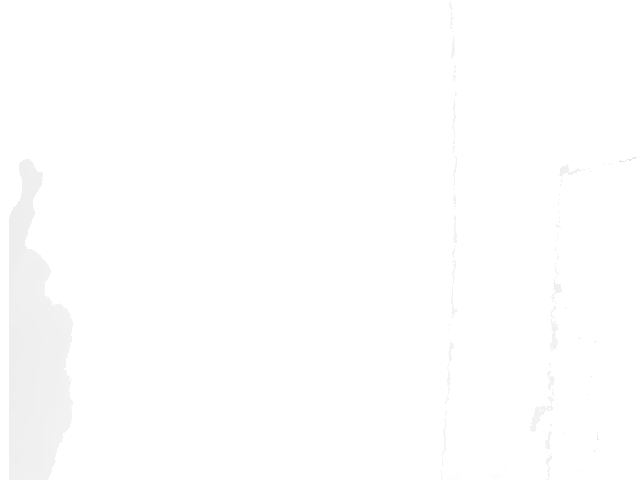hand: (17, 157, 44, 197)
head: (8, 243, 53, 285)
person: (7, 157, 75, 480)
